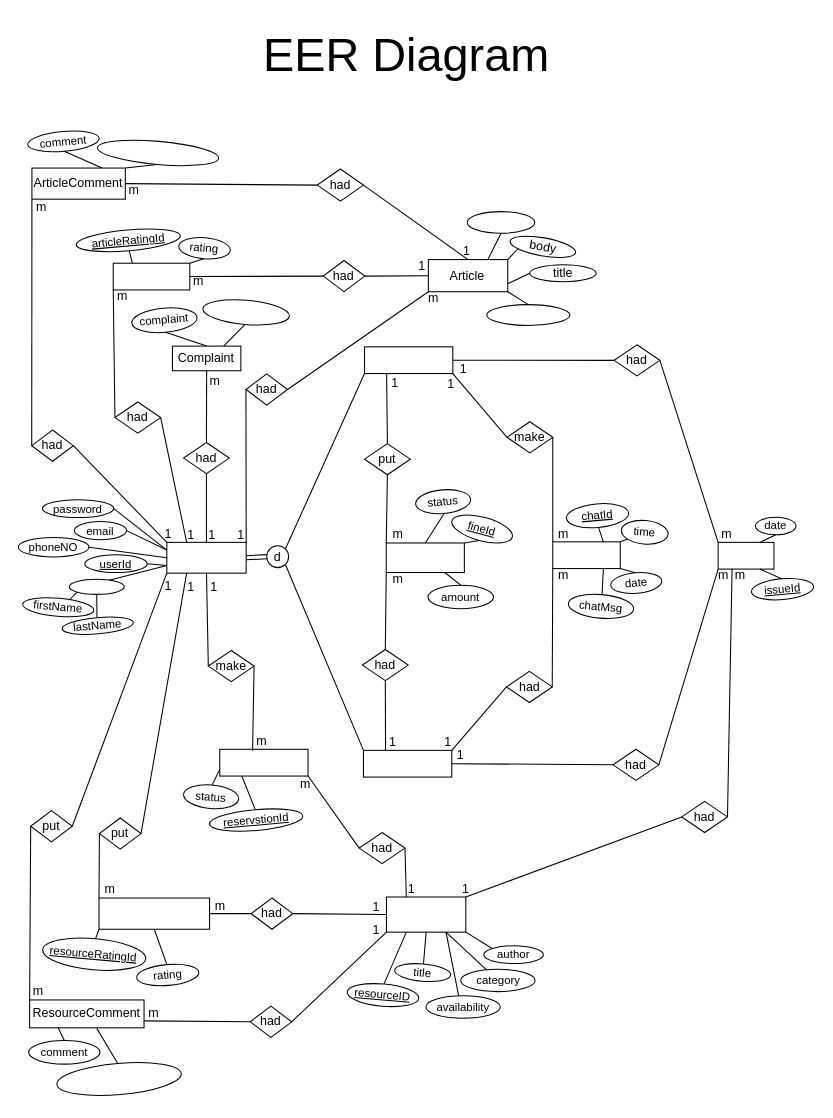
The diagram is 833 pixels wide and 1118 high, and some of its shapes have lost their labels. Here are the shapes that lost their labels. From the top down, the box of each, then its label:
(95, 135, 220, 170): articleCommentId
(466, 211, 535, 233): articleId
(112, 262, 190, 290): ArticleRating
(201, 295, 290, 328): complaintId
(486, 304, 570, 325): dateCreated
(363, 346, 453, 374): Librarian
(166, 541, 246, 573): User
(385, 542, 464, 573): Fine
(552, 541, 620, 569): Chat
(717, 541, 774, 569): Issue
(68, 578, 124, 594): name
(219, 748, 308, 776): Reservation
(362, 749, 452, 777): Member
(98, 897, 210, 929): ResourceRating
(385, 896, 466, 932): Resource
(54, 1057, 183, 1100): resourceCommentId
